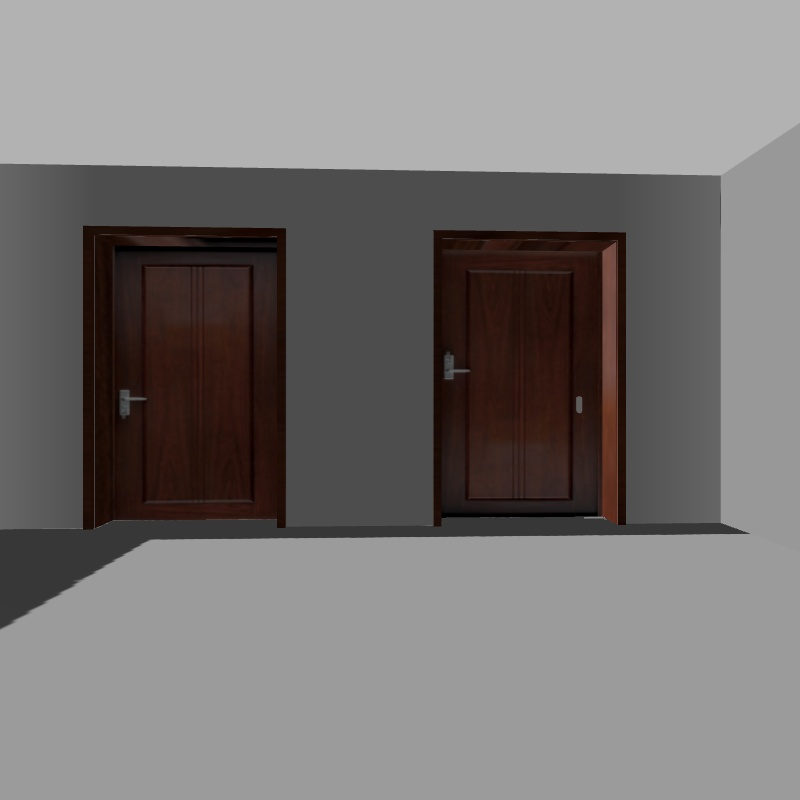handle: (435, 347, 473, 384), (110, 384, 146, 417)
